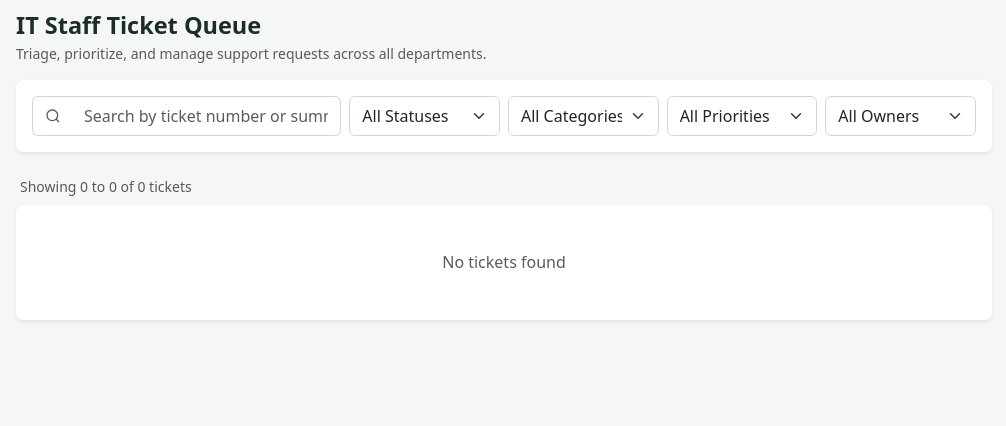
it: Lab 3 Staff Ticket Queue UI Tests (UI-05) › displays no-results state with Clear Filters button when filters match zero tickets
The width and height of the screenshot is (1006, 426).
Note: Filter by status to make filters active
Step 1. Select "Closed" in the dropdown named "filter by status" → [425, 116], box [349, 96, 500, 136]
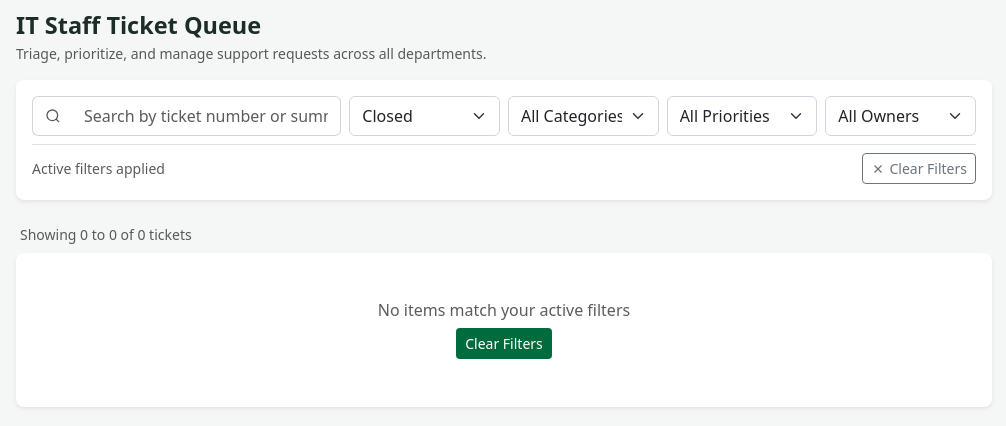
expect the text "No items match your active filters" is shown: met, box [378, 299, 630, 321]
